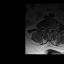CCS_normal: (49, 27, 50, 33)
LFS_stenosis: (52, 27, 53, 31)
LLS_stenosis: (50, 27, 52, 31)
RFS_stenosis: (46, 27, 48, 31)
RLS_stenosis: (48, 27, 49, 32)
